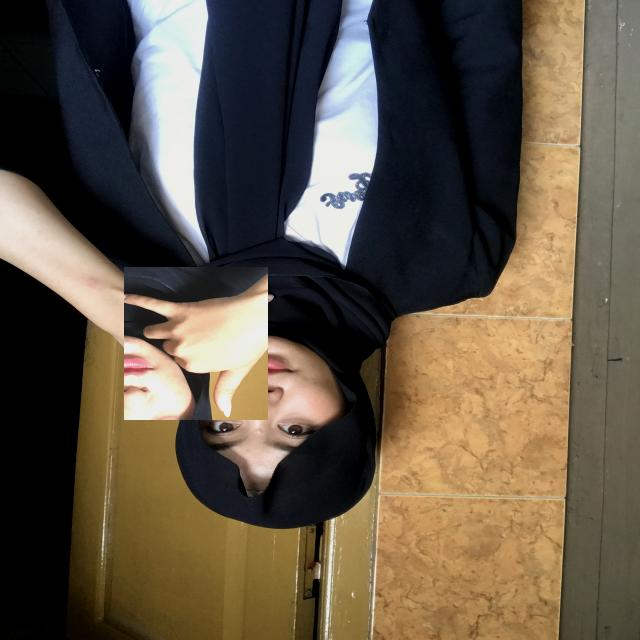telpon: (124, 267, 268, 420)
